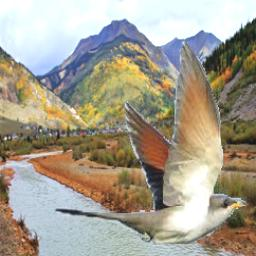Cuckoo: (56, 40, 248, 244)
